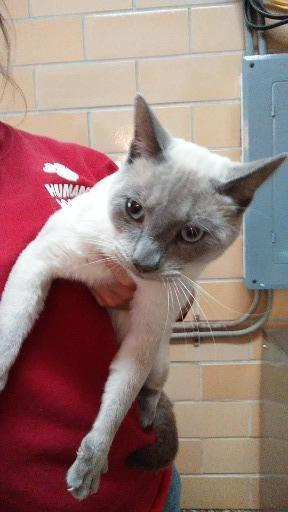siamese: (85, 93, 288, 299)
